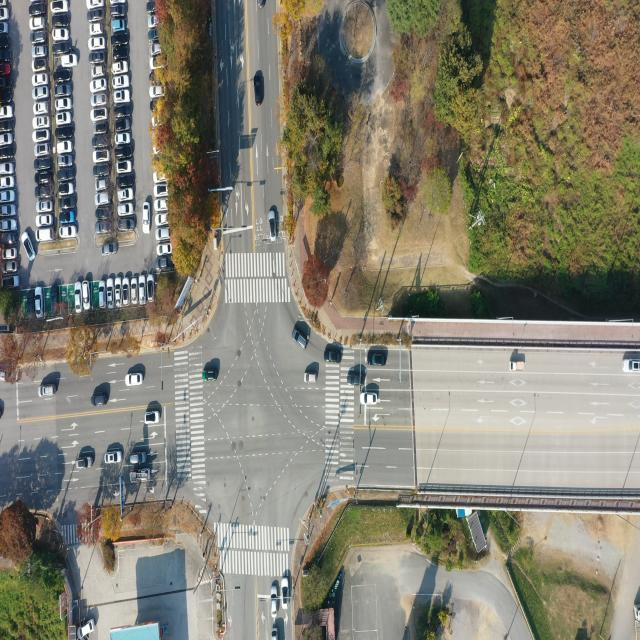car: (22, 234, 36, 264), (78, 618, 95, 640), (292, 330, 306, 352), (56, 125, 74, 141), (253, 76, 262, 107), (623, 358, 640, 374), (368, 354, 386, 368), (115, 47, 131, 62), (324, 350, 341, 364), (55, 71, 73, 84), (142, 204, 150, 233), (52, 42, 71, 54), (54, 0, 70, 14), (114, 91, 130, 105), (93, 108, 109, 122), (3, 276, 19, 290), (268, 208, 275, 240), (60, 227, 77, 240), (127, 375, 144, 388), (348, 375, 365, 388), (202, 368, 219, 381), (35, 159, 52, 172), (282, 578, 289, 609), (38, 386, 56, 398), (106, 279, 114, 306), (116, 162, 131, 176), (92, 78, 107, 92), (115, 118, 130, 132), (148, 29, 163, 43), (59, 182, 74, 196), (37, 230, 53, 243), (76, 457, 92, 470), (54, 29, 70, 42), (56, 86, 72, 99), (57, 141, 73, 154), (110, 4, 126, 17), (26, 292, 34, 318), (0, 220, 17, 232), (94, 150, 111, 162), (54, 14, 71, 26), (130, 452, 147, 464), (34, 288, 41, 317), (34, 88, 48, 102), (83, 282, 90, 310), (0, 177, 15, 190), (361, 392, 376, 405), (61, 212, 76, 225), (93, 394, 108, 407), (106, 452, 122, 464), (0, 206, 16, 218), (62, 56, 78, 68), (57, 113, 73, 125), (144, 412, 160, 424), (112, 76, 128, 88), (114, 134, 130, 146), (112, 63, 128, 75), (35, 173, 51, 185), (61, 199, 77, 211), (34, 144, 50, 156), (30, 4, 46, 16), (60, 170, 76, 182), (115, 105, 131, 117), (97, 281, 104, 308), (0, 106, 13, 120), (92, 37, 106, 50), (91, 53, 105, 66), (150, 59, 164, 72), (139, 278, 146, 304), (0, 146, 14, 159), (122, 279, 129, 305), (51, 288, 58, 314), (0, 120, 14, 133), (0, 191, 15, 203), (57, 99, 72, 111), (59, 157, 74, 169), (33, 74, 48, 86), (117, 205, 132, 217), (111, 21, 126, 33), (117, 188, 132, 200), (37, 215, 52, 227), (36, 186, 51, 198), (93, 95, 108, 107), (34, 103, 49, 115), (31, 33, 46, 45), (272, 586, 278, 616), (158, 259, 173, 271), (89, 8, 104, 20), (115, 32, 130, 44), (116, 146, 131, 158), (118, 219, 134, 230), (132, 279, 139, 304), (0, 134, 13, 147), (158, 230, 171, 243), (0, 164, 14, 176), (103, 244, 117, 256), (158, 245, 172, 257), (96, 193, 110, 205), (34, 116, 48, 128), (32, 45, 46, 57), (96, 222, 110, 234), (34, 131, 48, 143), (31, 17, 45, 29), (33, 60, 47, 72), (94, 136, 108, 148), (148, 276, 154, 304), (36, 199, 51, 210), (95, 166, 110, 177), (149, 72, 164, 83), (75, 283, 81, 310), (115, 278, 121, 305), (4, 248, 17, 260), (91, 24, 104, 36), (150, 87, 162, 100), (0, 92, 12, 105), (305, 374, 319, 385), (97, 209, 111, 220), (0, 64, 11, 78), (0, 76, 11, 90), (95, 125, 109, 136), (118, 177, 132, 188), (157, 200, 169, 212), (157, 214, 169, 226), (93, 66, 105, 78), (156, 185, 169, 196), (4, 264, 18, 274), (150, 44, 161, 56), (0, 51, 11, 63), (0, 7, 9, 21), (0, 22, 9, 36), (0, 35, 9, 49), (96, 180, 108, 190), (88, 0, 103, 8), (147, 15, 157, 27), (156, 173, 168, 183), (147, 1, 156, 13), (109, 0, 126, 6), (257, 0, 266, 8)
small_truck: (131, 468, 151, 482), (510, 360, 527, 373), (0, 234, 18, 245), (272, 626, 278, 640)
